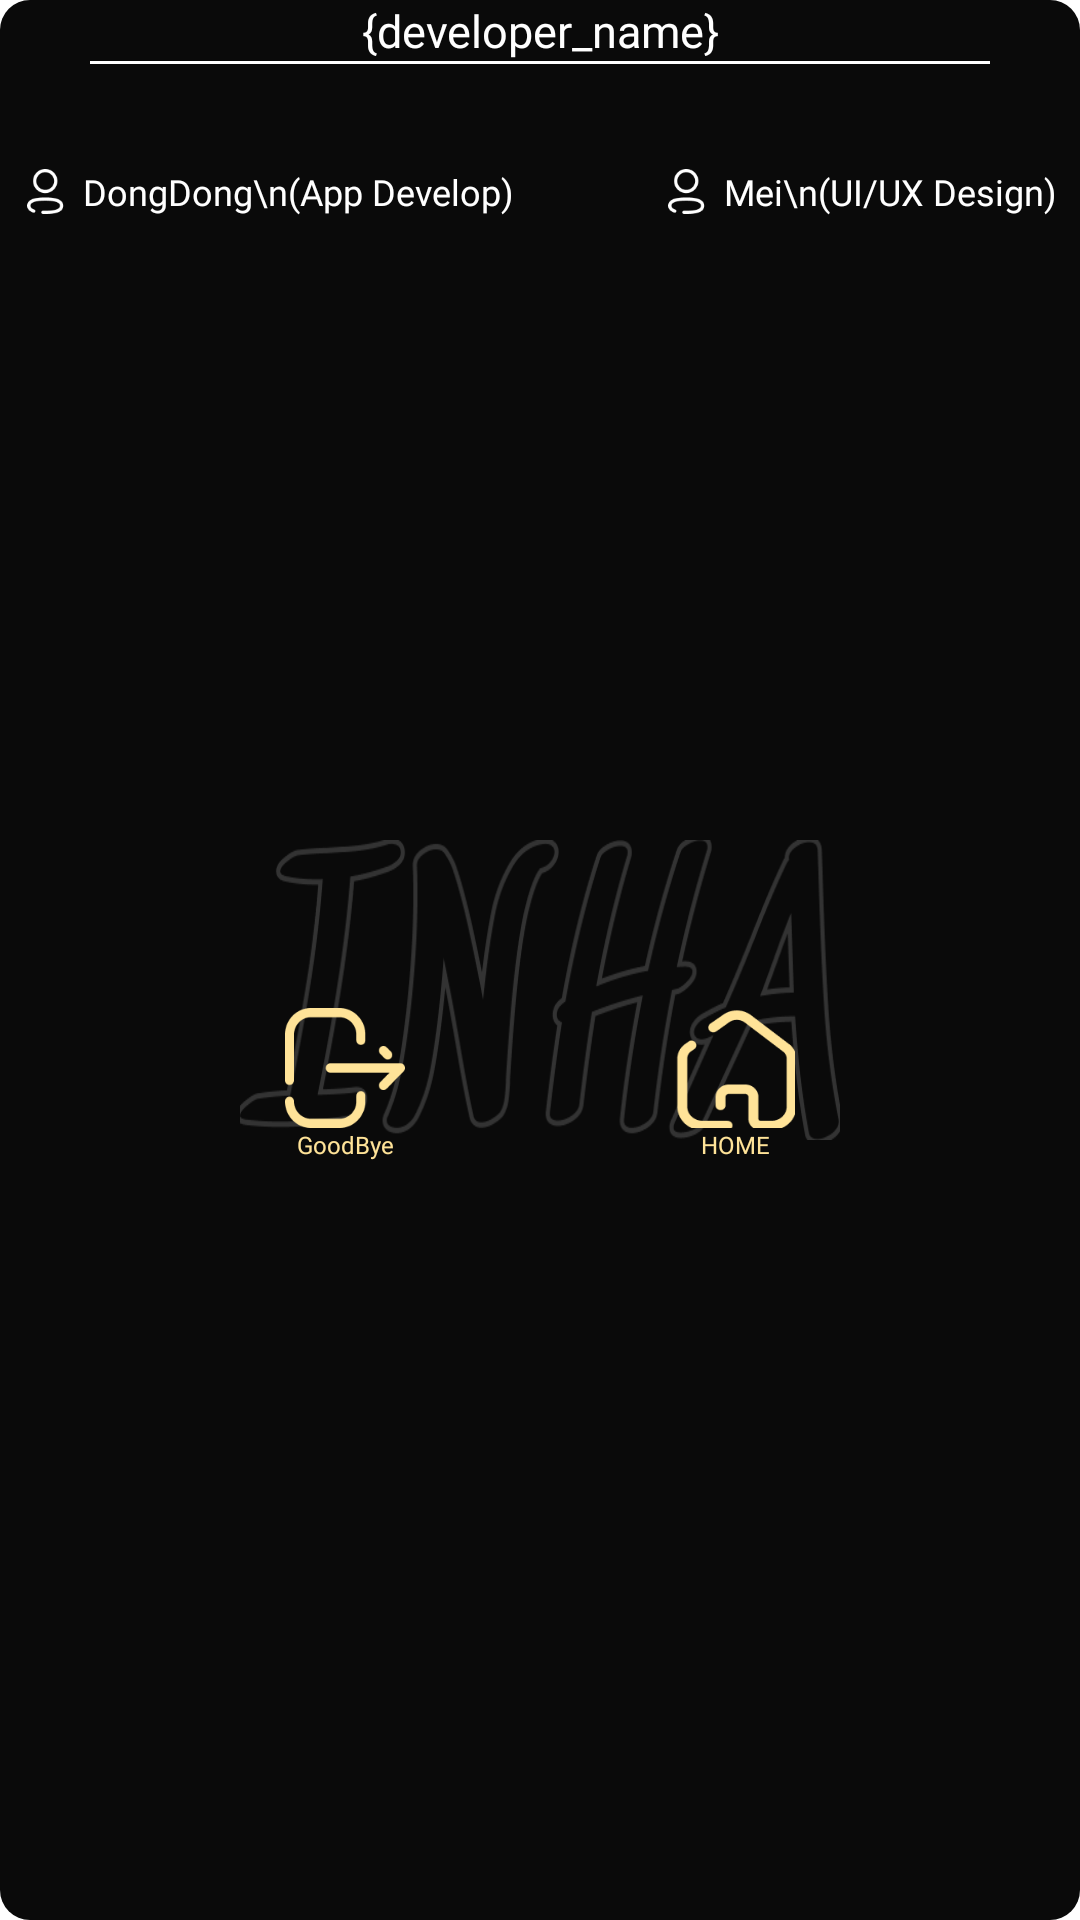

Where to tap for icons on this 1080px x 1920px app screen, as (x,y):
profile: (45,191), (686,191)
